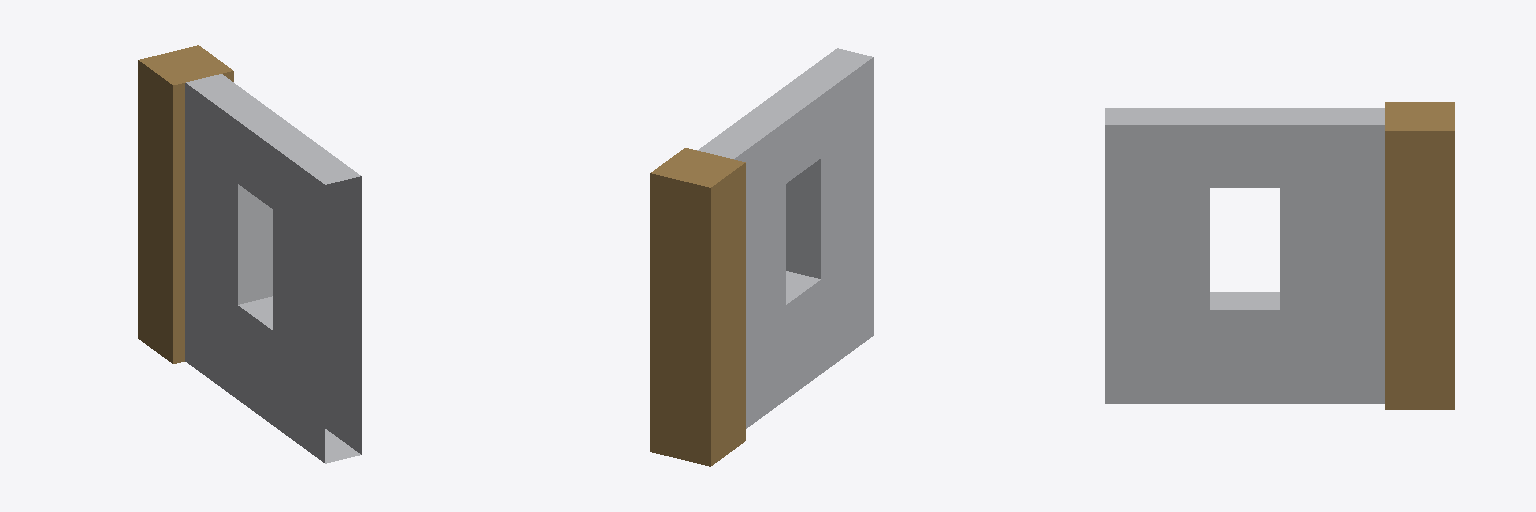
File: Wood_Window_Square_011.obj
3 views of the same model, side by side, from view 1: azimuth 30°, elevation 25°; view 2: azimuth 150°, elevation 25°; view 3: azimuth 270°, elevation 25° (orthographic).
Visible parts, largest first — view 1: Wood_Window_Square_01; view 2: Wood_Window_Square_01; view 3: Wood_Window_Square_01.
Boxes of the visible parts, x1=… form: Wood_Window_Square_01: x1=138, y1=45, x2=361, y2=463; Wood_Window_Square_01: x1=650, y1=48, x2=873, y2=466; Wood_Window_Square_01: x1=1105, y1=102, x2=1454, y2=409.
Bounding box in the file's own units: 0.5 × 2.2 × 2.5.